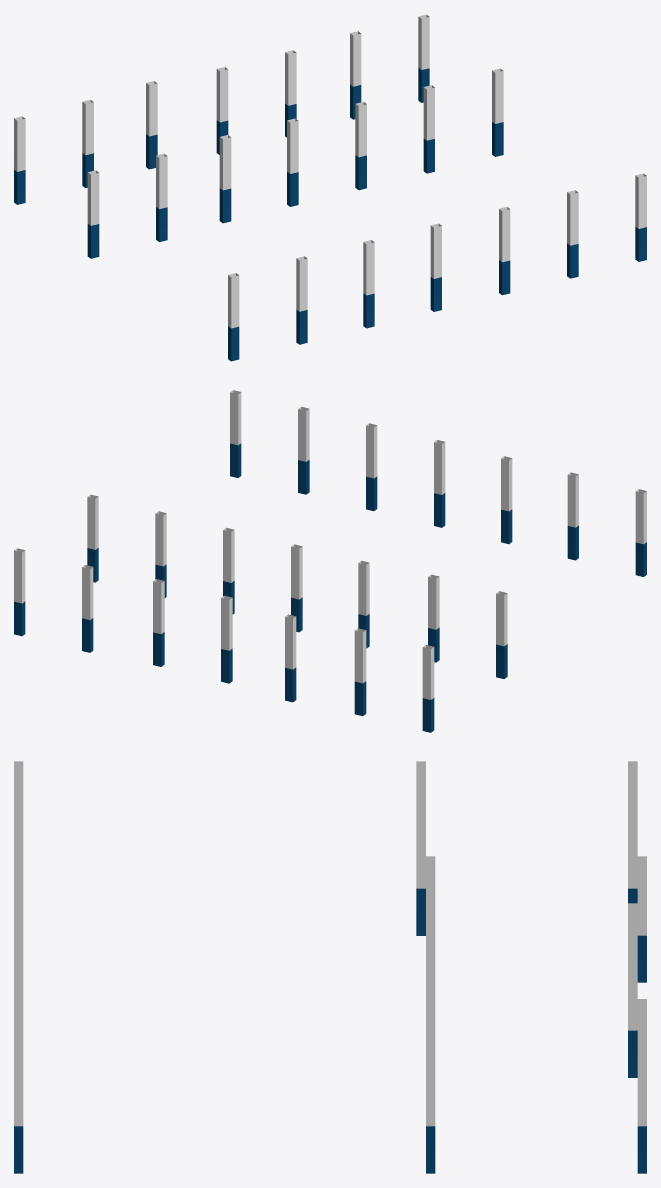
Rendered from Pillars.fbx.
The picture shows the model from 3 angles, top to bottom: view 1: azimuth 30°, elevation 25°; view 2: azimuth 150°, elevation 25°; view 3: azimuth 270°, elevation 25°; orthographic projection. The views are drawn at different scales.
Parts seen in each view (by area): view 1: Pillars; view 2: Pillars; view 3: Pillars.
Part boxes in pixels (bbox=[...]): Pillars: bbox=[14, 14, 646, 361]; Pillars: bbox=[14, 390, 646, 732]; Pillars: bbox=[14, 761, 646, 1173].
Size of the model in its own units: 31.01 by 6 by 28.48.
Materials: 1 (1 with a texture image).
